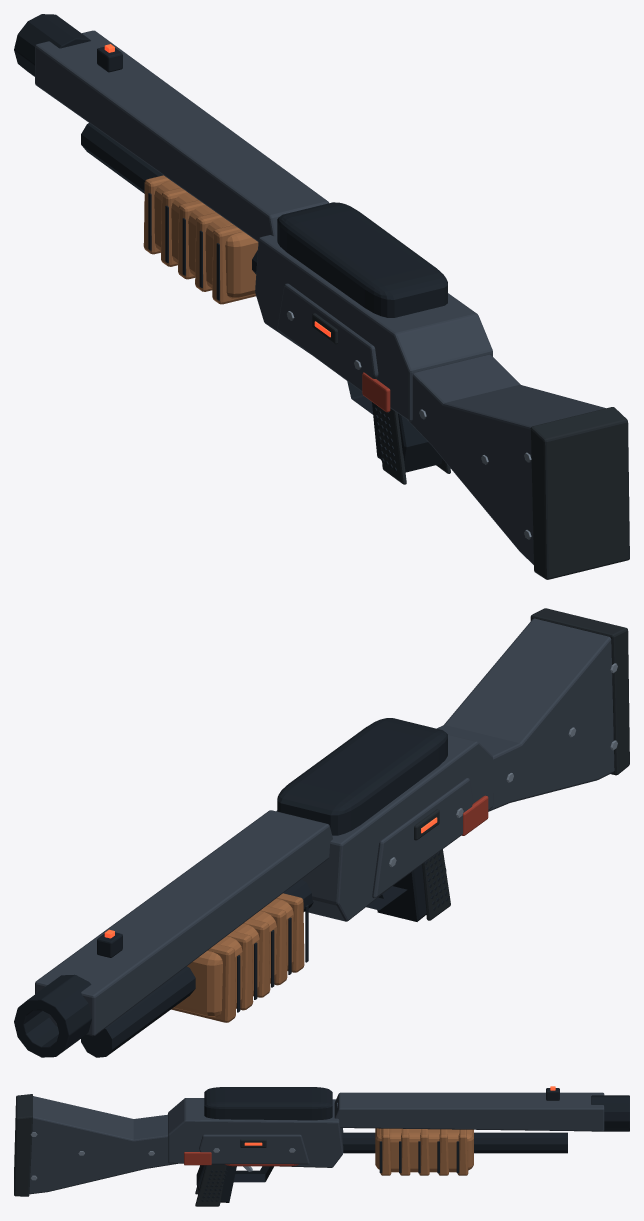
File: shotgun.glb
3 renders of one model, top to bottom at view 1: azimuth 30°, elevation 25°; view 2: azimuth 150°, elevation 25°; view 3: azimuth 270°, elevation 25°, orthographic. The views are drawn at different scales.
Parts seen in each view (by area): view 1: shotgun; view 2: shotgun; view 3: shotgun.
Part boxes in pixels (x1,y1,x2,y2): shotgun: (14, 14, 629, 579); shotgun: (14, 608, 629, 1057); shotgun: (14, 1086, 629, 1206).
Bounding box in the file's own units: 0.2024 × 0.3621 × 1.79.
